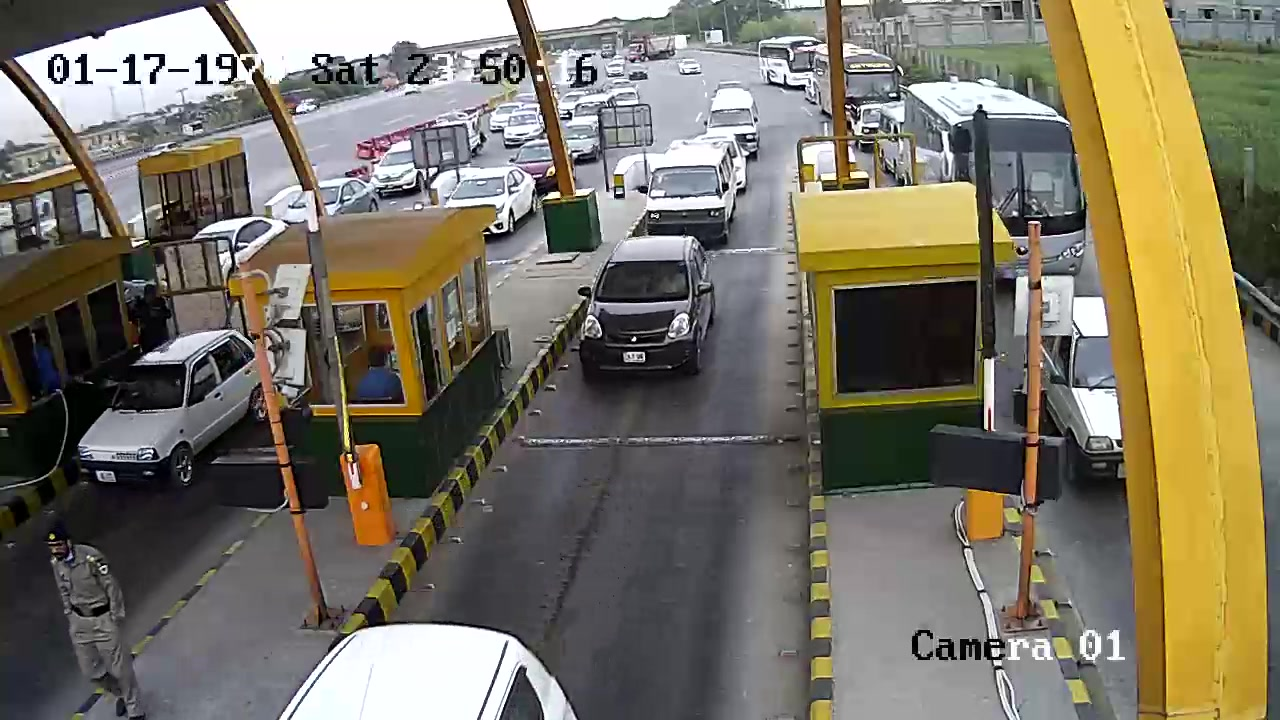F1: (574, 226, 718, 382)
